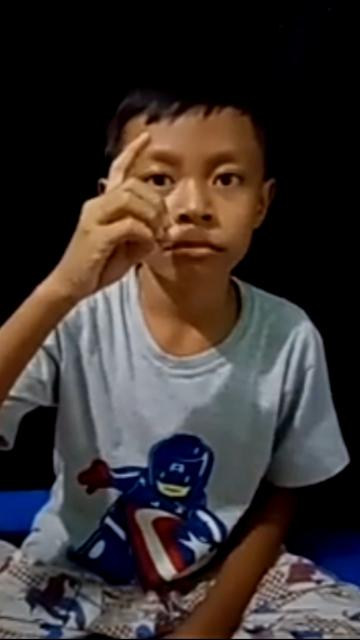D: (53, 132, 176, 298)
